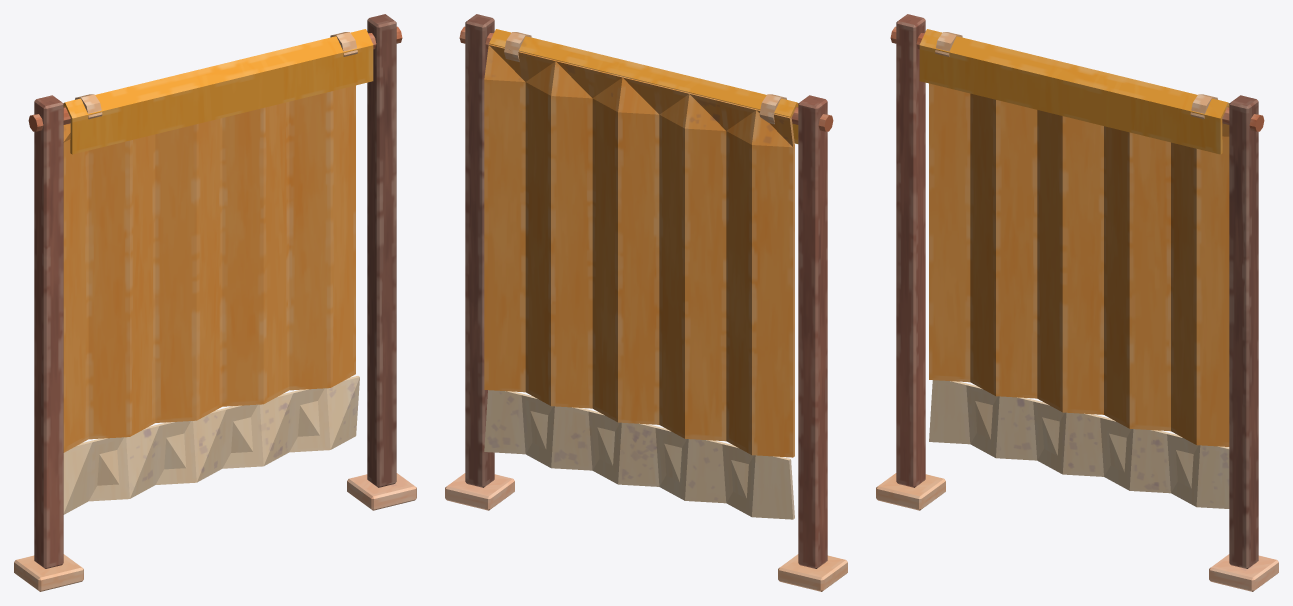
File: rack_saffron.fbx
The picture shows the model from 3 angles, left to right: view 1: azimuth 30°, elevation 25°; view 2: azimuth 150°, elevation 25°; view 3: azimuth 330°, elevation 25°; orthographic projection.
Visible parts, largest first — view 1: rack_saffron; view 2: rack_saffron; view 3: rack_saffron.
Part boxes in pixels (x1=…): rack_saffron: x1=14, y1=14, x2=416, y2=591; rack_saffron: x1=445, y1=14, x2=847, y2=591; rack_saffron: x1=876, y1=14, x2=1278, y2=591.
Size of the model in its own units: 8.3 by 10 by 1.
Materials: 1 (1 with a texture image).
